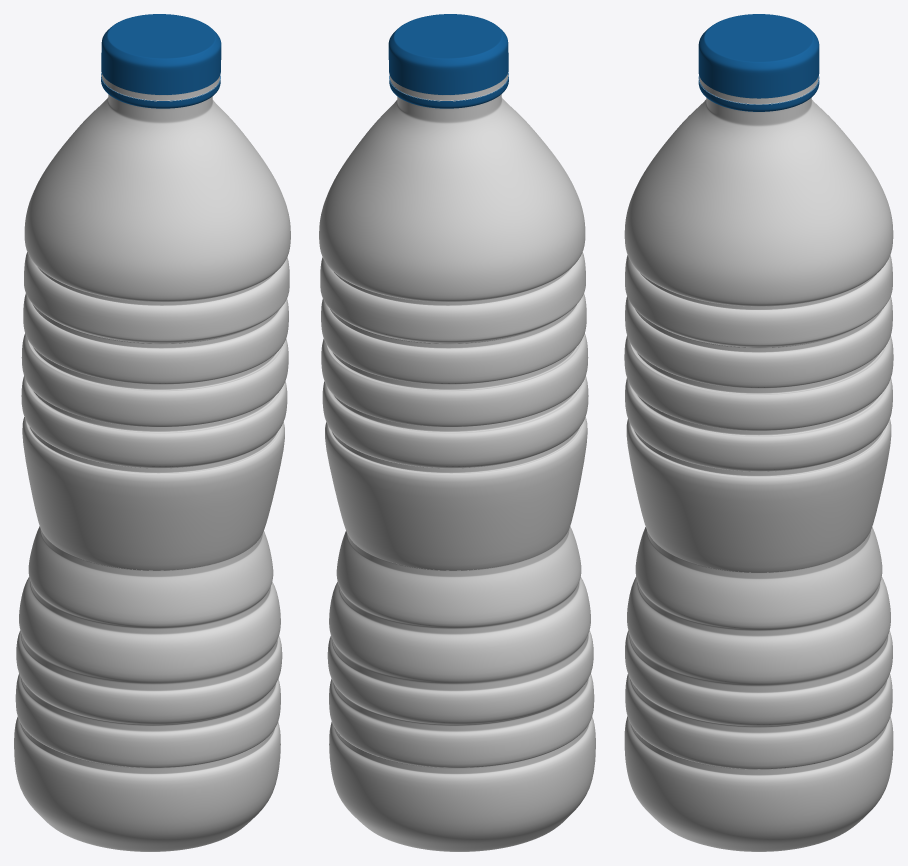
The model's file is botol1.fbx.
The picture shows the model from 3 angles, left to right: view 1: azimuth 30°, elevation 25°; view 2: azimuth 150°, elevation 25°; view 3: azimuth 270°, elevation 25°; orthographic projection.
Visible parts, largest first — view 1: Plastic bottle.004; view 2: Plastic bottle.004; view 3: Plastic bottle.004.
Part boxes in pixels (x1,y1,x2,y2): Plastic bottle.004: [14, 14, 290, 851]; Plastic bottle.004: [319, 14, 595, 851]; Plastic bottle.004: [624, 14, 893, 851].
Size of the model in its own units: 7.54 by 23.08 by 7.23.
